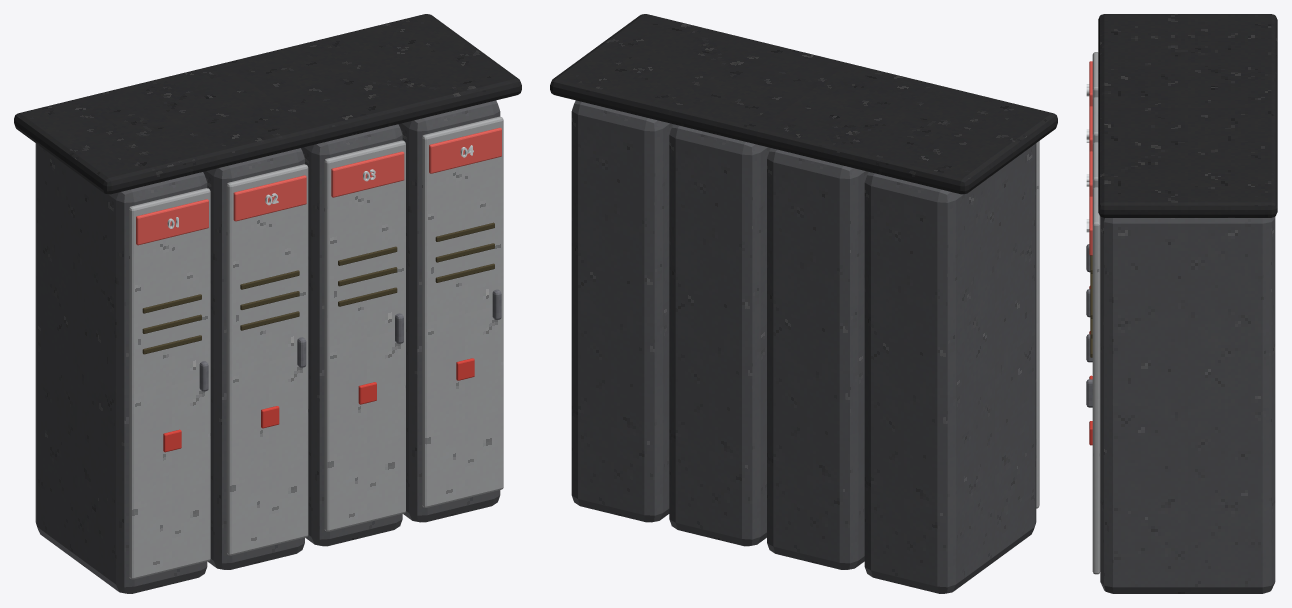
Rendered from decor_sec_evidence_locker_bank.glb.
The picture shows the model from 3 angles, left to right: view 1: azimuth 30°, elevation 25°; view 2: azimuth 150°, elevation 25°; view 3: azimuth 270°, elevation 25°; orthographic projection. The views are drawn at different scales.
Parts seen in each view (by area): view 1: DEC_SecEvidenceLockerBank__Top_Trim, DEC_SecEvidenceLockerBank__Body_1, DEC_SecEvidenceLockerBank__Door_2, DEC_SecEvidenceLockerBank__Door_1, DEC_SecEvidenceLockerBank__Door_4, DEC_SecEvidenceLockerBank__Door_3, DEC_SecEvidenceLockerBank__Body_3, DEC_SecEvidenceLockerBank__Body_2, DEC_SecEvidenceLockerBank__Body_4, DEC_SecEvidenceLockerBank__Header_3, DEC_SecEvidenceLockerBank__Header_2, DEC_SecEvidenceLockerBank__Header_1 (+1 smaller); view 2: DEC_SecEvidenceLockerBank__Body_1, DEC_SecEvidenceLockerBank__Top_Trim, DEC_SecEvidenceLockerBank__Body_4, DEC_SecEvidenceLockerBank__Body_3, DEC_SecEvidenceLockerBank__Body_2, DEC_SecEvidenceLockerBank__Door_1; view 3: DEC_SecEvidenceLockerBank__Body_4, DEC_SecEvidenceLockerBank__Top_Trim, DEC_SecEvidenceLockerBank__Door_4, DEC_SecEvidenceLockerBank__Door_1, DEC_SecEvidenceLockerBank__Door_3, DEC_SecEvidenceLockerBank__Door_2.
Part boxes in pixels (left/top/right/bottom): DEC_SecEvidenceLockerBank__Top_Trim: left=14, top=14, right=521, bottom=194; DEC_SecEvidenceLockerBank__Body_1: left=35, top=143, right=207, bottom=593; DEC_SecEvidenceLockerBank__Door_2: left=226, top=164, right=308, bottom=555; DEC_SecEvidenceLockerBank__Door_1: left=129, top=188, right=210, bottom=579; DEC_SecEvidenceLockerBank__Door_4: left=422, top=116, right=503, bottom=507; DEC_SecEvidenceLockerBank__Door_3: left=324, top=140, right=405, bottom=531; DEC_SecEvidenceLockerBank__Body_3: left=301, top=124, right=402, bottom=546; DEC_SecEvidenceLockerBank__Body_2: left=203, top=148, right=304, bottom=569; DEC_SecEvidenceLockerBank__Body_4: left=398, top=100, right=500, bottom=522; DEC_SecEvidenceLockerBank__Header_3: left=331, top=151, right=404, bottom=197; DEC_SecEvidenceLockerBank__Header_2: left=233, top=175, right=306, bottom=221; DEC_SecEvidenceLockerBank__Header_1: left=136, top=199, right=208, bottom=245; DEC_SecEvidenceLockerBank__Body_1: left=864, top=143, right=1036, bottom=593; DEC_SecEvidenceLockerBank__Top_Trim: left=550, top=14, right=1057, bottom=194; DEC_SecEvidenceLockerBank__Body_4: left=571, top=100, right=673, bottom=522; DEC_SecEvidenceLockerBank__Body_3: left=669, top=124, right=770, bottom=546; DEC_SecEvidenceLockerBank__Body_2: left=767, top=148, right=868, bottom=569; DEC_SecEvidenceLockerBank__Door_1: left=1036, top=141, right=1039, bottom=508; DEC_SecEvidenceLockerBank__Body_4: left=1100, top=217, right=1275, bottom=593; DEC_SecEvidenceLockerBank__Top_Trim: left=1098, top=14, right=1277, bottom=217; DEC_SecEvidenceLockerBank__Door_4: left=1092, top=187, right=1100, bottom=574; DEC_SecEvidenceLockerBank__Door_1: left=1092, top=52, right=1098, bottom=99; DEC_SecEvidenceLockerBank__Door_3: left=1092, top=142, right=1098, bottom=189; DEC_SecEvidenceLockerBank__Door_2: left=1092, top=97, right=1098, bottom=144.
Bounding box in the file's own units: 2.14 × 2.08 × 0.895.
Materials: 8 (4 with a texture image).
